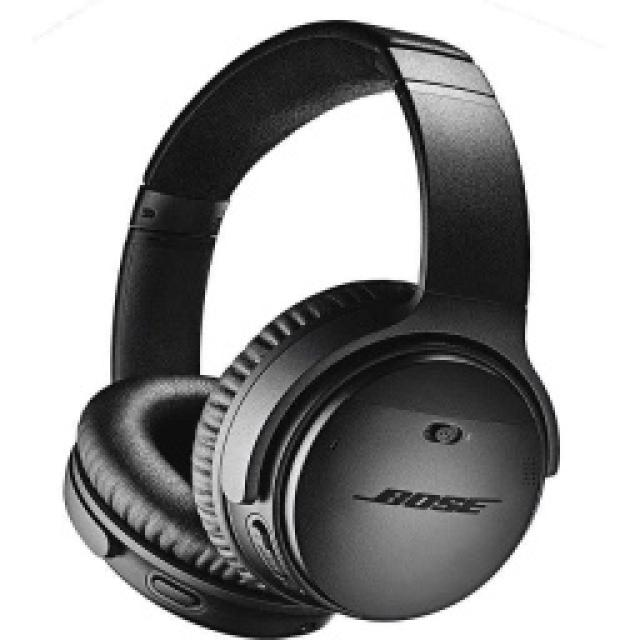headphones: (60, 18, 560, 638)
